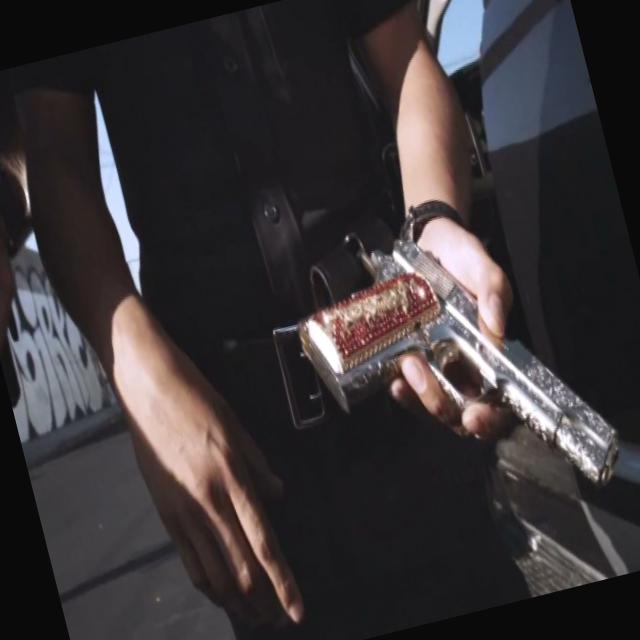handgun: (269, 174, 639, 570)
